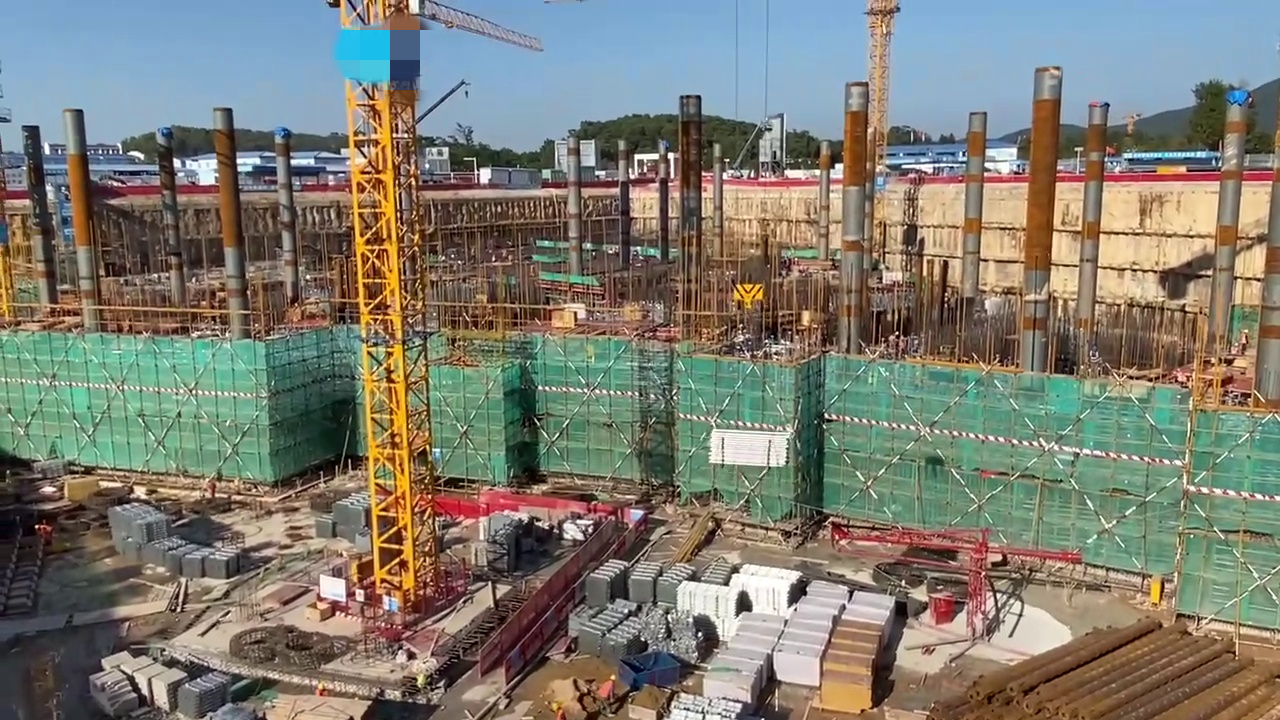board: (821, 617, 880, 709)
fence: (474, 484, 588, 519)
hook: (736, 281, 767, 302)
rebar: (921, 615, 1280, 717)
scaffold: (110, 503, 242, 576), (584, 608, 703, 657), (584, 557, 689, 604), (735, 560, 803, 612), (709, 428, 793, 470), (684, 582, 737, 641), (328, 494, 370, 548), (179, 670, 227, 715), (670, 691, 740, 718)
